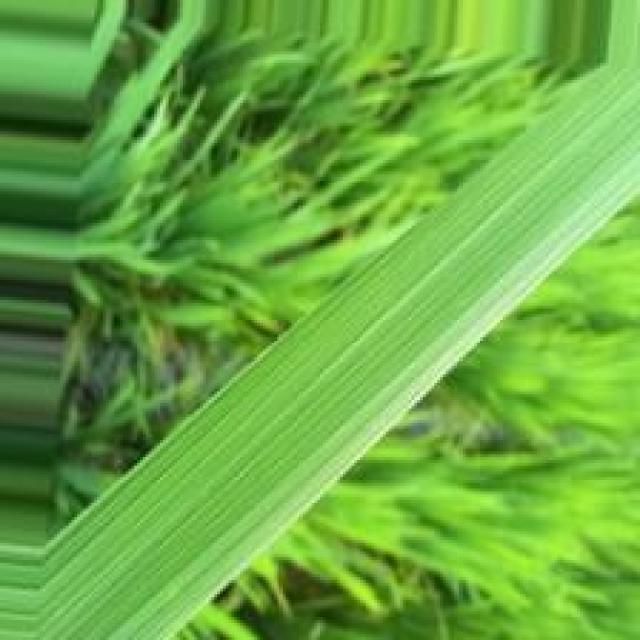HealthyLeaf: (0, 0, 640, 637)
